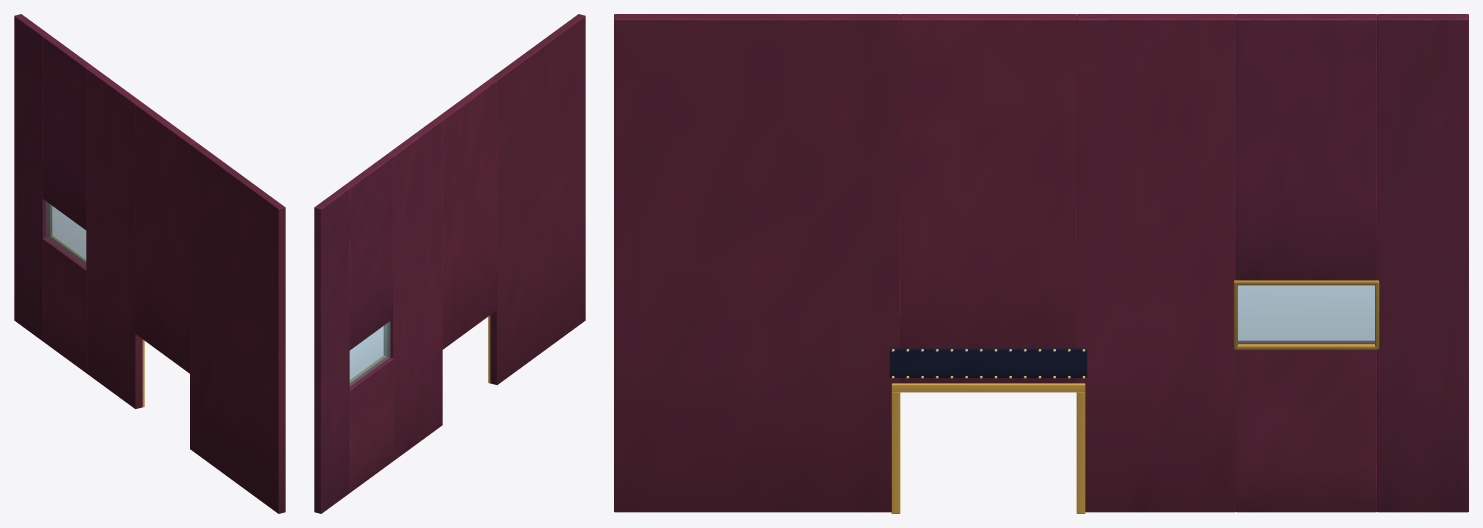
File: SM_Cinema_Partition.fbx
3 views of the same model, side by side, from view 1: azimuth 30°, elevation 25°; view 2: azimuth 150°, elevation 25°; view 3: azimuth 270°, elevation 25° (orthographic). The views are drawn at different scales.
Visible parts, largest first — view 1: SM_Cinema_Partition; view 2: SM_Cinema_Partition; view 3: SM_Cinema_Partition.
Boxes of the visible parts, box(x1,y1,x2,y2) form: SM_Cinema_Partition: box(14, 14, 285, 513); SM_Cinema_Partition: box(314, 14, 585, 513); SM_Cinema_Partition: box(614, 14, 1468, 513).
Bounding box in the file's own units: 55.06 × 1540 × 2420.
